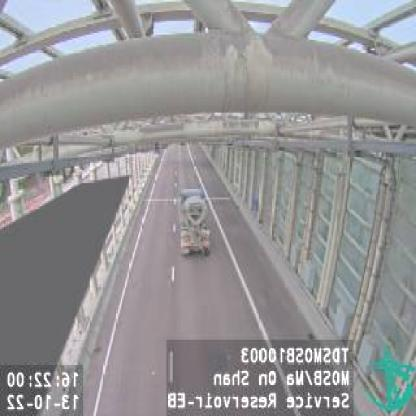Truck: (177, 187, 211, 257)
